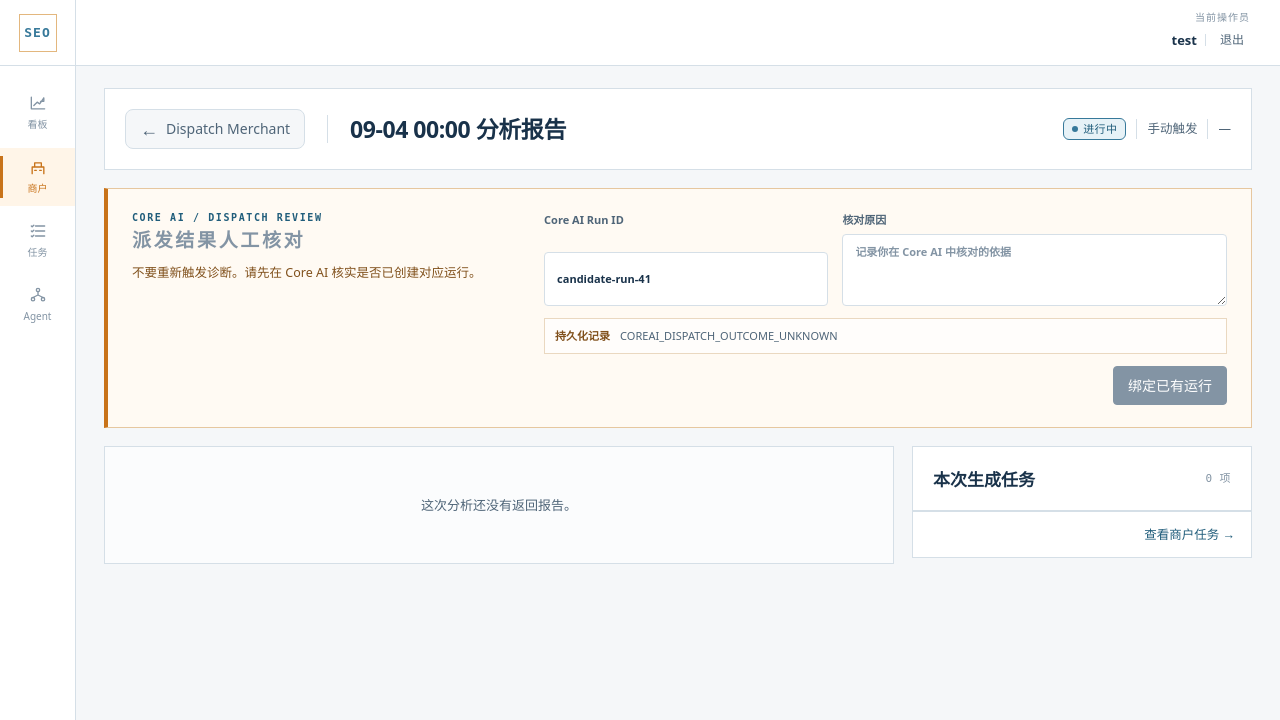
run dispatch reconciliation › polls a bound run without overlap, loads its terminal report and plan, then stops
Type "已核实候选运行属于本次分析" into the text box labelled "核对原因" at (1035, 270), box [842, 234, 1227, 306]
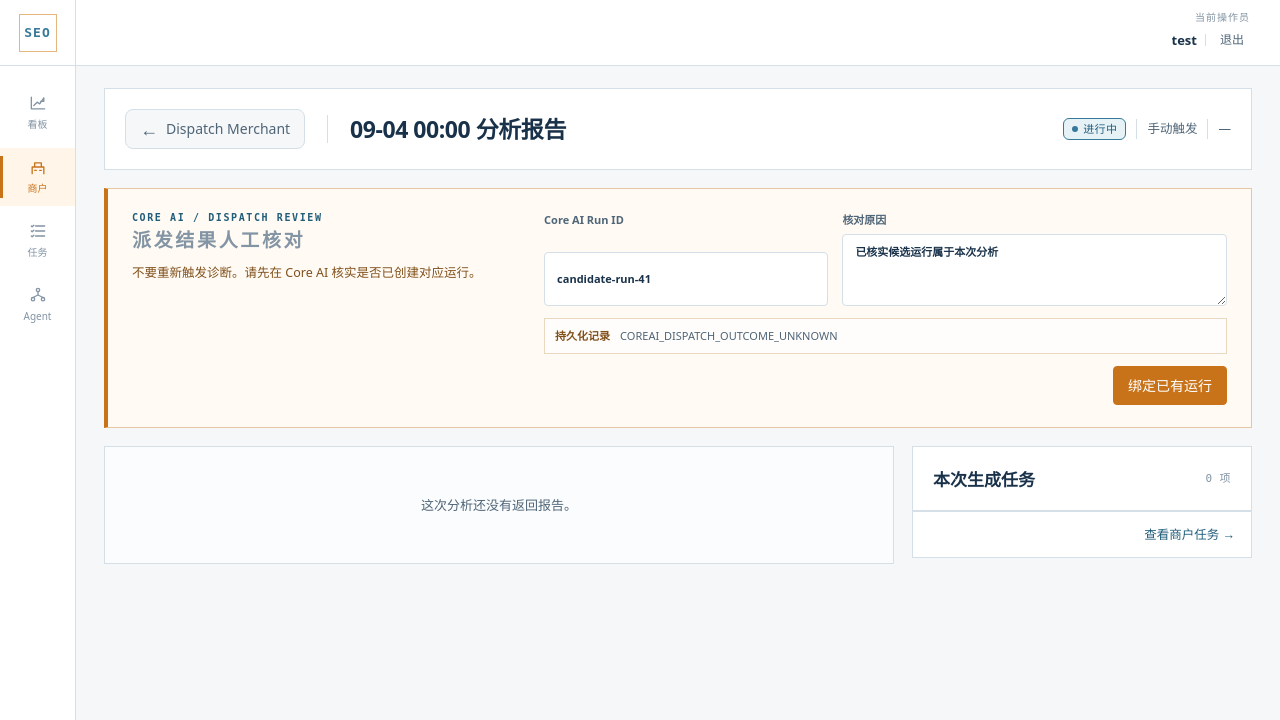
Click the button "绑定已有运行" at (1170, 386), box [1113, 366, 1227, 405]
Wait 110000 ms
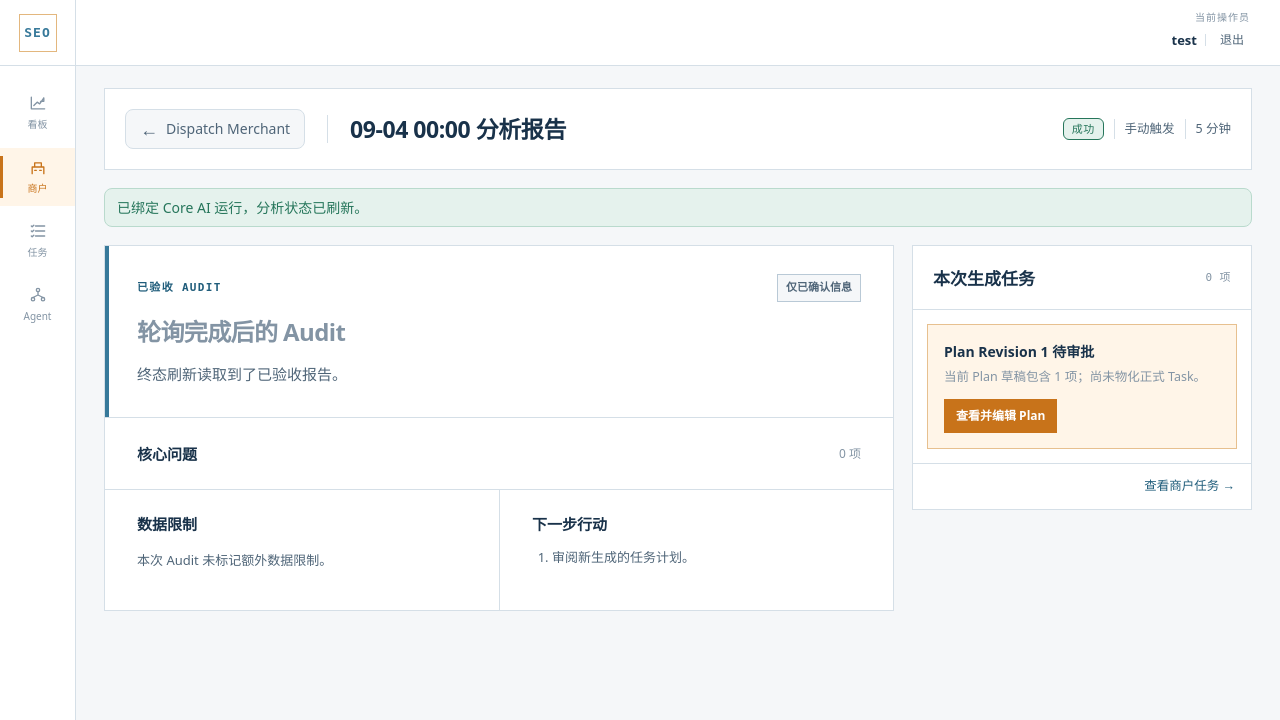
expect the heading "轮询完成后的 Audit" is shown: met, box [137, 315, 345, 348]
expect the text "当前 Plan 草稿包含 1 项；尚未物化正式 Task。" is shown: met, box [944, 368, 1220, 387]
